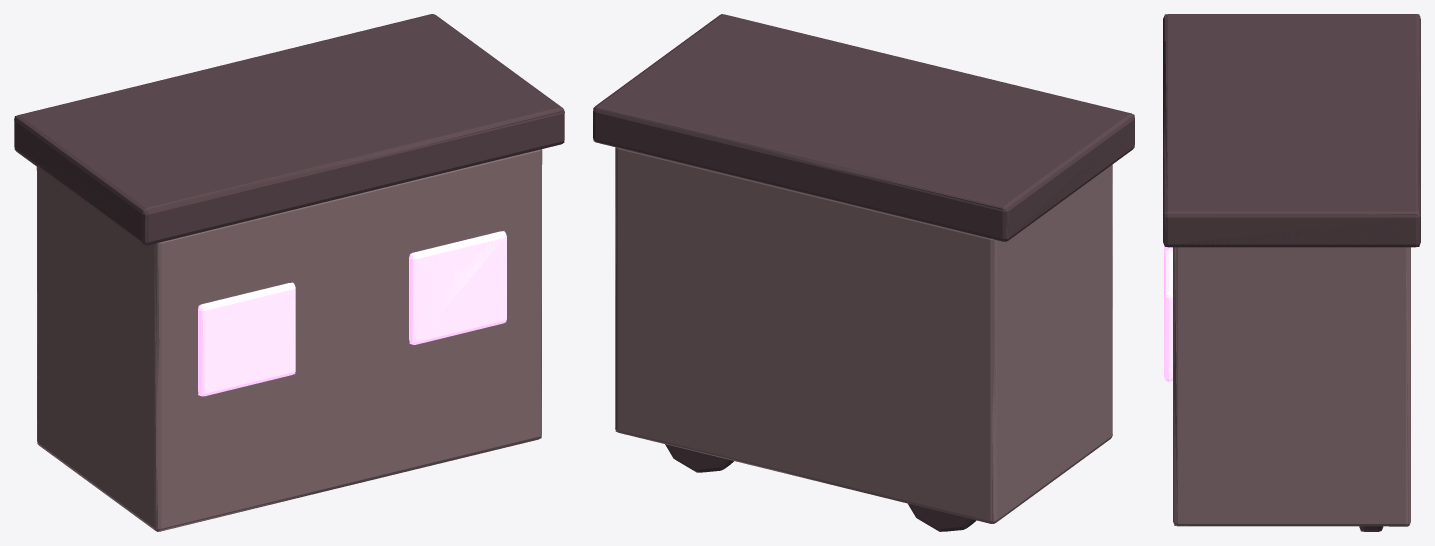
File: SM_Neroberg_Funicular.fbx
The picture shows the model from 3 angles, left to right: view 1: azimuth 30°, elevation 25°; view 2: azimuth 150°, elevation 25°; view 3: azimuth 270°, elevation 25°; orthographic projection. The views are drawn at different scales.
Visible parts, largest first — view 1: LOD0_SM_Neroberg_Funicular, LOD1_SM_Neroberg_Funicular, LOD2_SM_Neroberg_Funicular; view 2: LOD0_SM_Neroberg_Funicular, LOD1_SM_Neroberg_Funicular, LOD2_SM_Neroberg_Funicular; view 3: LOD0_SM_Neroberg_Funicular, LOD1_SM_Neroberg_Funicular.
Part boxes in pixels (bbox=[...]): LOD0_SM_Neroberg_Funicular: bbox=[14, 14, 564, 531]; LOD1_SM_Neroberg_Funicular: bbox=[14, 14, 564, 531]; LOD2_SM_Neroberg_Funicular: bbox=[14, 14, 564, 531]; LOD0_SM_Neroberg_Funicular: bbox=[593, 14, 1134, 531]; LOD1_SM_Neroberg_Funicular: bbox=[593, 30, 1134, 530]; LOD2_SM_Neroberg_Funicular: bbox=[593, 14, 1134, 531]; LOD0_SM_Neroberg_Funicular: bbox=[1163, 14, 1420, 531]; LOD1_SM_Neroberg_Funicular: bbox=[1163, 14, 1420, 531].
Size of the model in its own units: 2.4 by 1.99 by 1.3.
